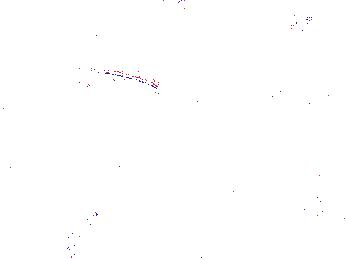X-ray fish: (65, 186, 96, 217)
glassfish: (64, 162, 125, 255), (52, 60, 165, 108)
red belly glassfish: (288, 17, 304, 35)
